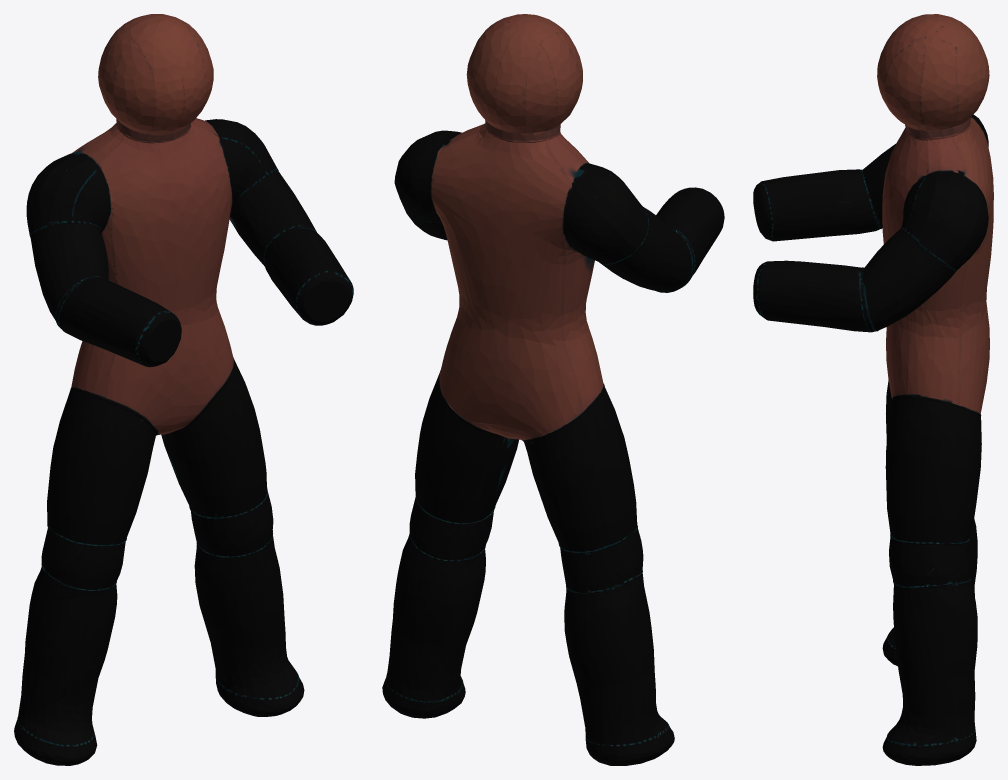
The model's file is grappling_dummy.glb.
3 renders of one model, left to right at view 1: azimuth 30°, elevation 25°; view 2: azimuth 150°, elevation 25°; view 3: azimuth 270°, elevation 25°, orthographic. The views are drawn at different scales.
Parts seen in each view (by area): view 1: grappling_dummy; view 2: grappling_dummy; view 3: grappling_dummy.
Part boxes in pixels (<box>): grappling_dummy: <box>14,14,353,765</box>; grappling_dummy: <box>382,14,724,765</box>; grappling_dummy: <box>753,14,993,765</box>.
Bounding box in the file's own units: 0.6098 × 1.5 × 0.4733.
Materials: 1 (1 with a texture image).
